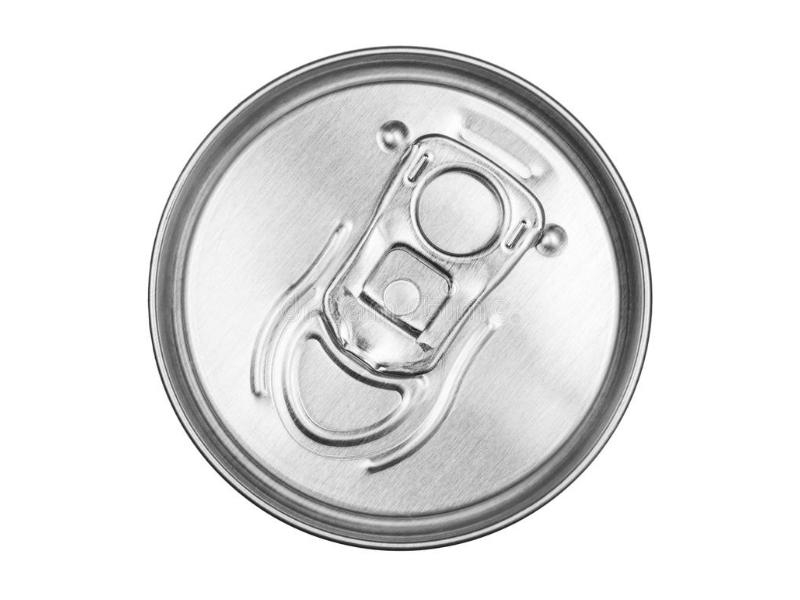can: (143, 43, 651, 547)
